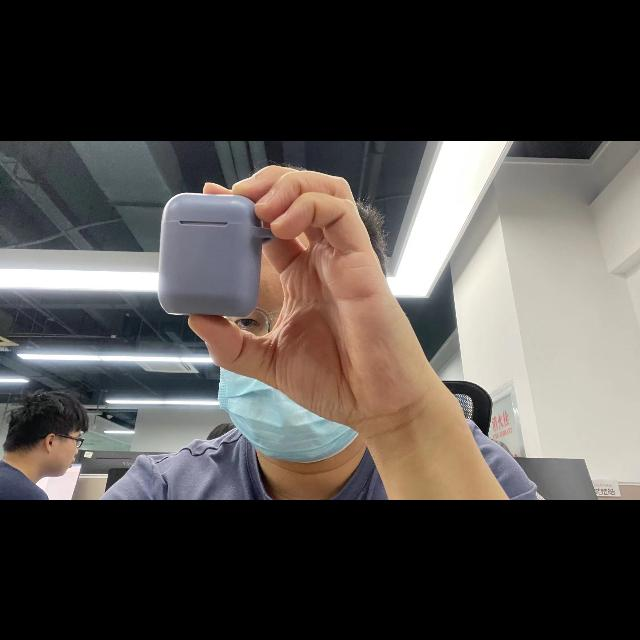airpods: (157, 193, 274, 319)
